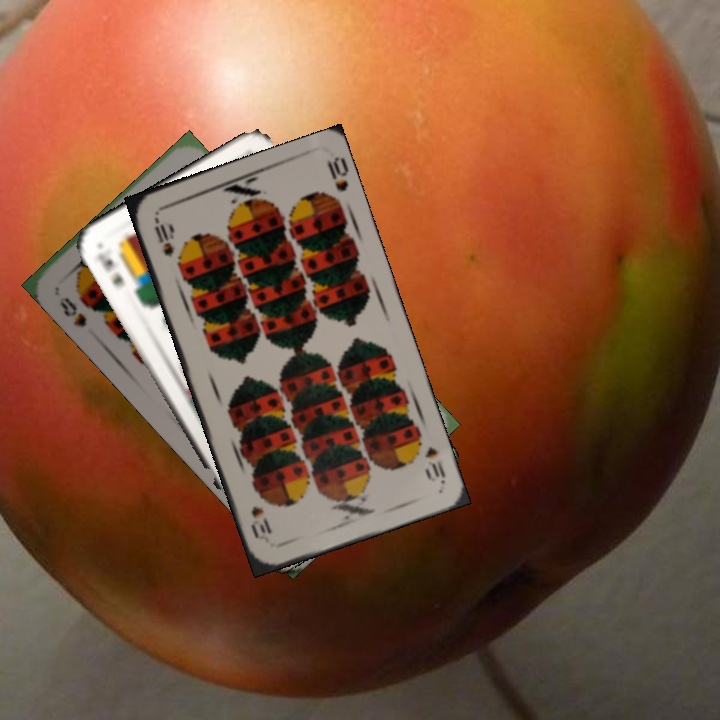EK: (93, 254, 128, 291)
S10: (150, 213, 178, 260), (421, 442, 449, 485)
S8: (55, 293, 89, 330)
